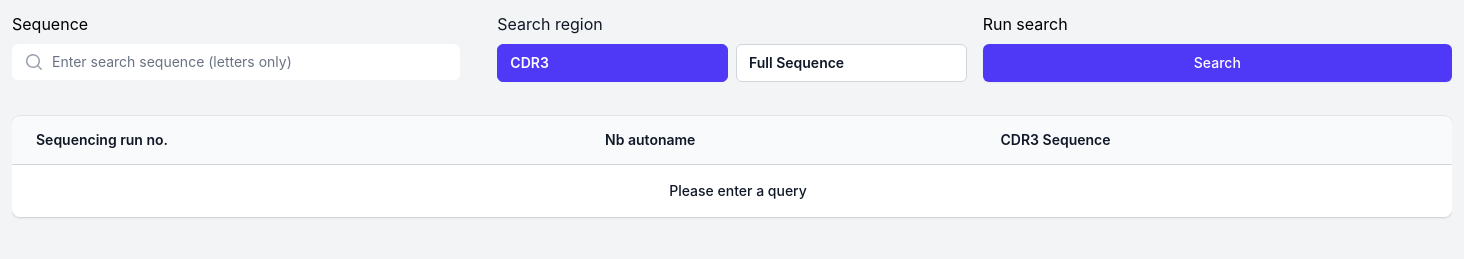
Test: SearchSequencing › shows validation error for short query
Type "AB" into the search field with placeholder "Enter search sequence (letters only)" at (236, 62), box [12, 44, 460, 80]
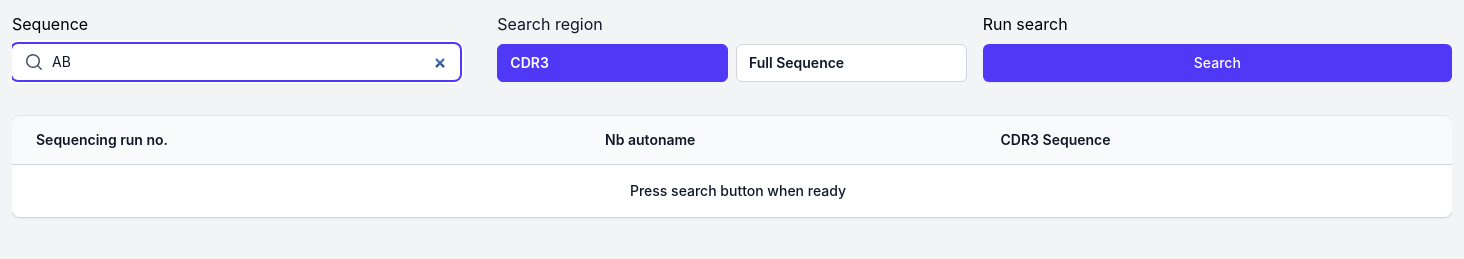
Click the button "Search" at (1217, 63), box [983, 44, 1452, 82]
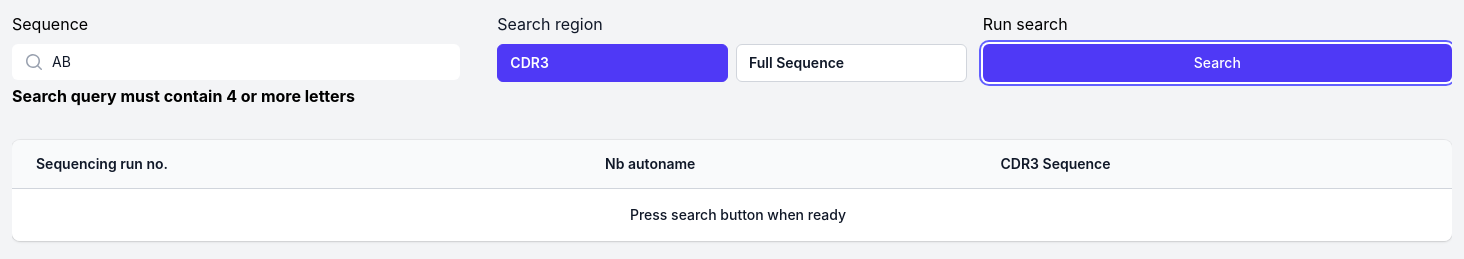
Check: the text "Search query must contain 4 or more letters" is shown, box [12, 86, 355, 106]
